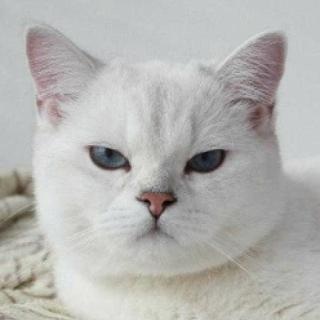cat: (23, 20, 295, 287)
nose: (130, 184, 183, 220)
